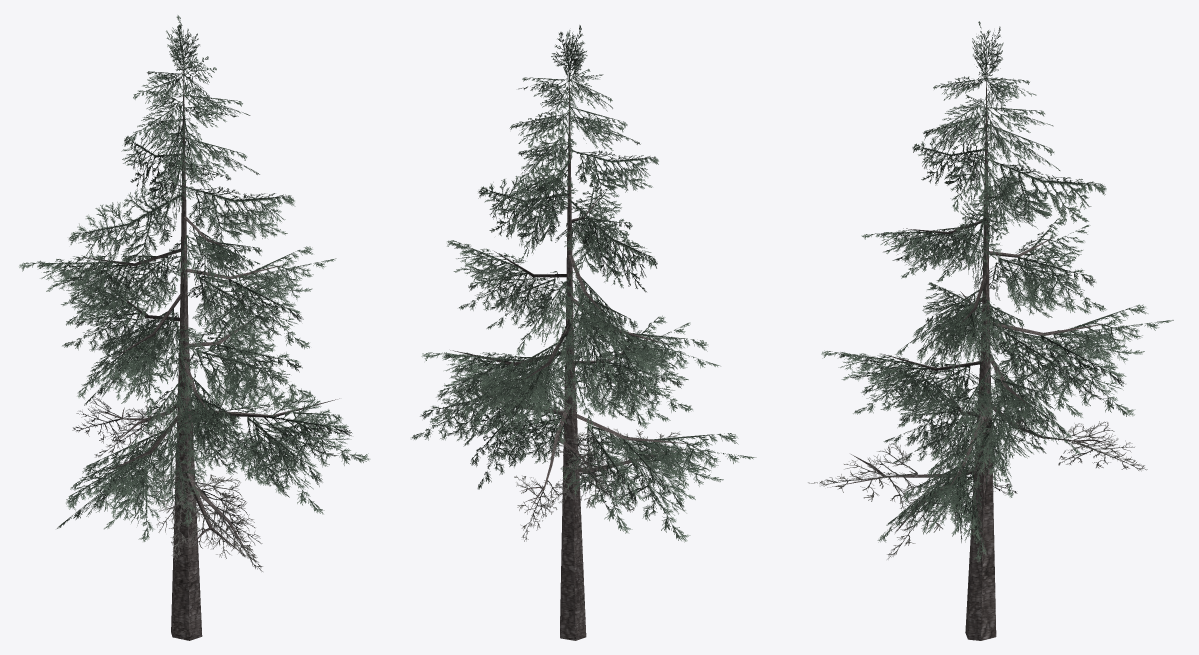
Rendered from sm_pine_b_04.glb.
3 renders of one model, left to right at view 1: azimuth 30°, elevation 25°; view 2: azimuth 150°, elevation 25°; view 3: azimuth 270°, elevation 25°, orthographic.
Parts seen in each view (by area): view 1: SM_Pine_b_04; view 2: SM_Pine_b_04; view 3: SM_Pine_b_04.
Part boxes in pixels (x1,y1,x2,y2): SM_Pine_b_04: (19,15,370,640); SM_Pine_b_04: (411,25,756,640); SM_Pine_b_04: (808,21,1173,640).
Size of the model in its own units: 7.94 by 14.4 by 8.3.
Materials: 1 (1 with a texture image).
